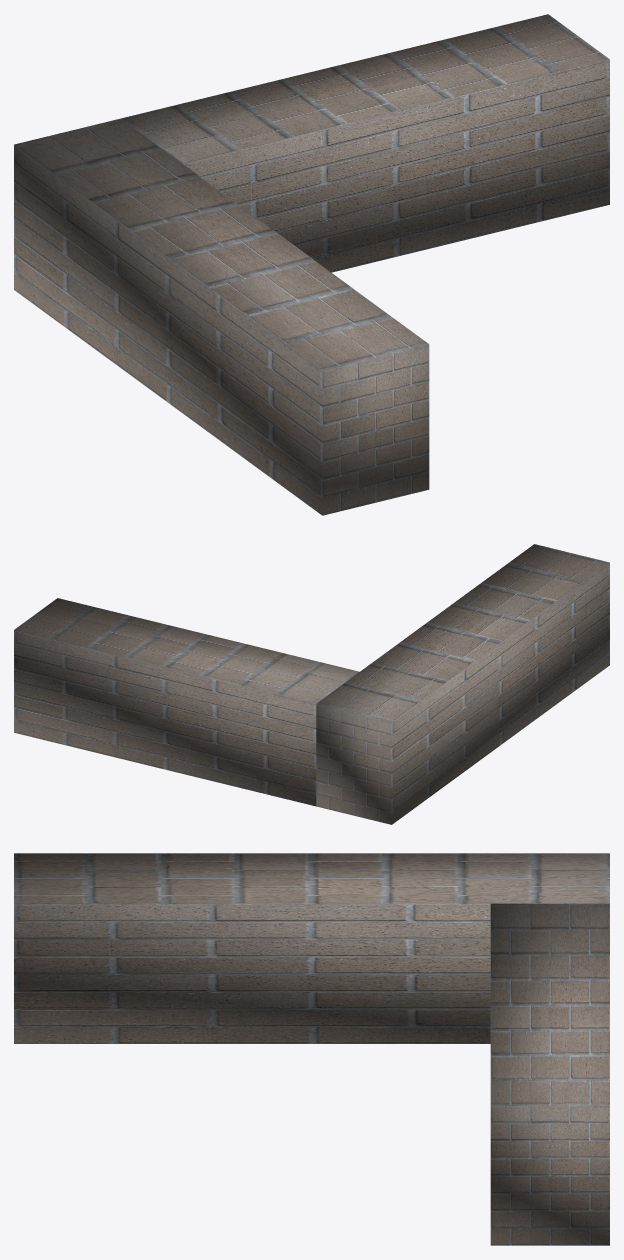
File: corner.obj
3 views of the same model, one above another, from view 1: azimuth 30°, elevation 25°; view 2: azimuth 150°, elevation 25°; view 3: azimuth 270°, elevation 25° (orthographic). The views are drawn at different scales.
Visible parts, largest first — view 1: Box001; view 2: Box001; view 3: Box001.
Part boxes in pixels (bbox=[...]): Box001: bbox=[14, 14, 609, 515]; Box001: bbox=[14, 544, 609, 824]; Box001: bbox=[14, 853, 609, 1245].
Bounding box in the file's own units: 10 × 2.6 × 10.
1 material, 1 textured.
